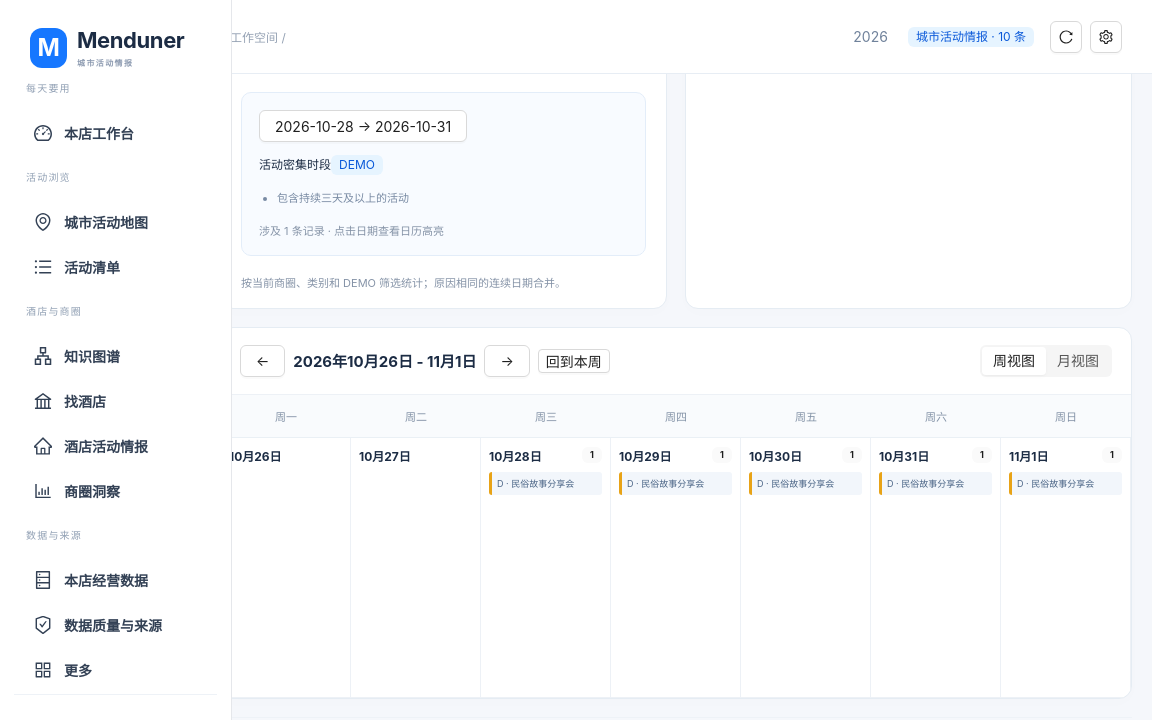
Test case: Integrated platform routes and interactions › shows overlapping multi-day calendar entries and navigates months
(page scrolled)
Click the text "月视图": click(1078, 360) left=1057, top=352, right=1099, bottom=369
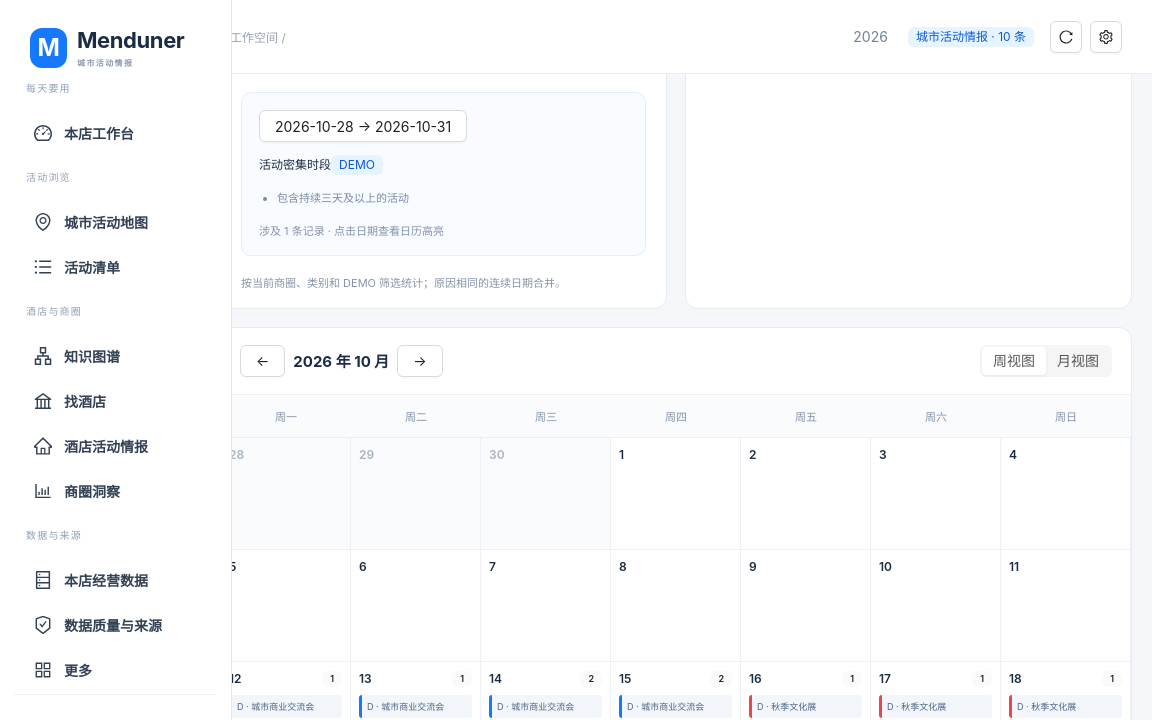
Now the number of buttons "D · 城市商业交流会" is 4, box left=229, top=695, right=342, bottom=718; left=359, top=695, right=472, bottom=718; left=489, top=695, right=602, bottom=718; left=619, top=695, right=732, bottom=718
Click the button named "下个月": click(420, 361) left=397, top=345, right=443, bottom=377
(page scrolled)
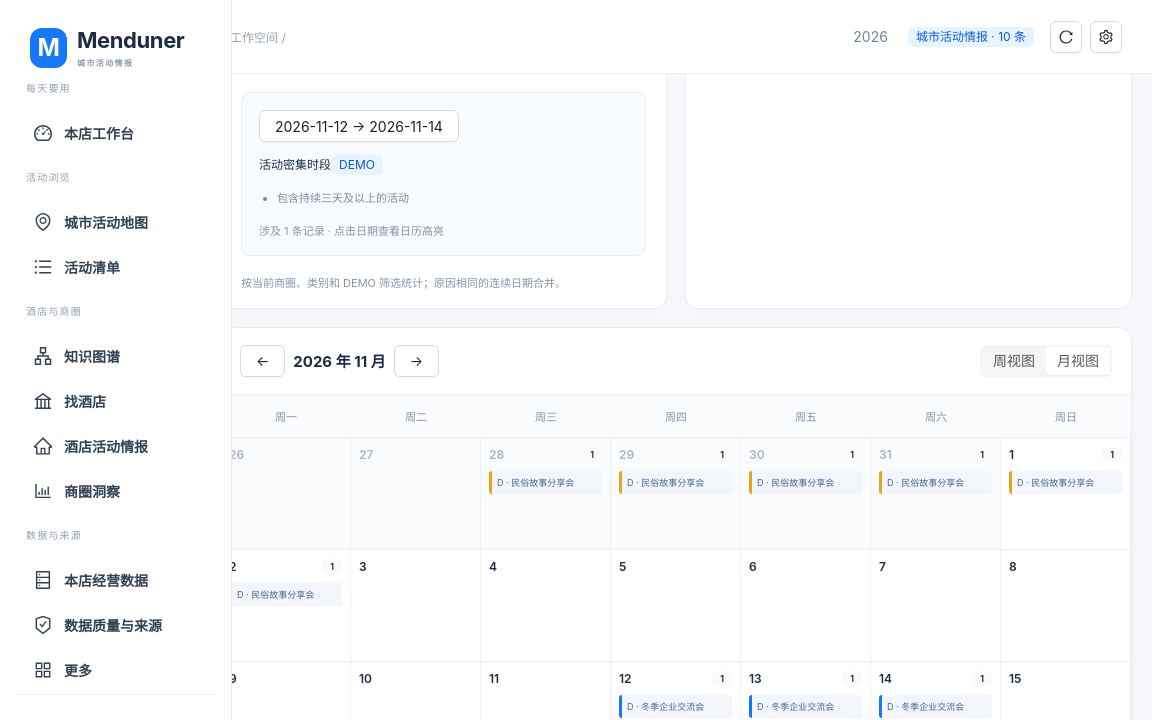
Now the heading "2026 年 11 月" is shown, box left=293, top=350, right=386, bottom=372
Now the number of buttons "D · 民俗故事分享会" is 6, box left=489, top=471, right=602, bottom=494; left=619, top=471, right=732, bottom=494; left=749, top=471, right=862, bottom=494; left=879, top=471, right=992, bottom=494; left=1009, top=471, right=1122, bottom=494; left=229, top=583, right=342, bottom=606
